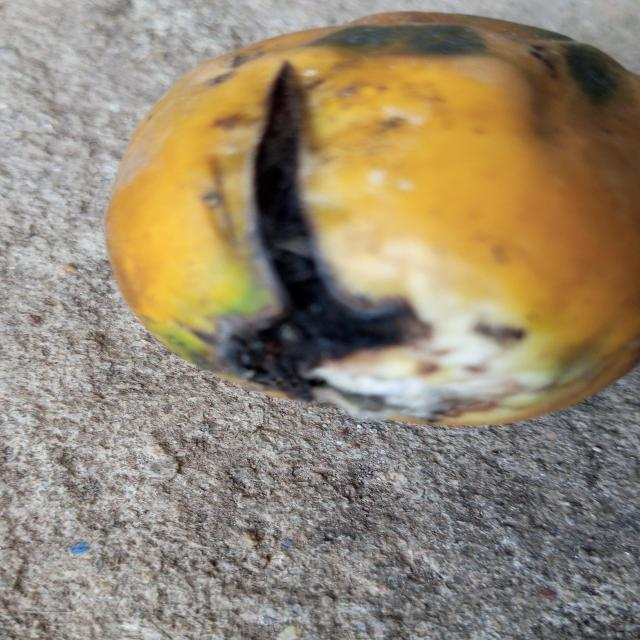damaged: (105, 12, 640, 431)
